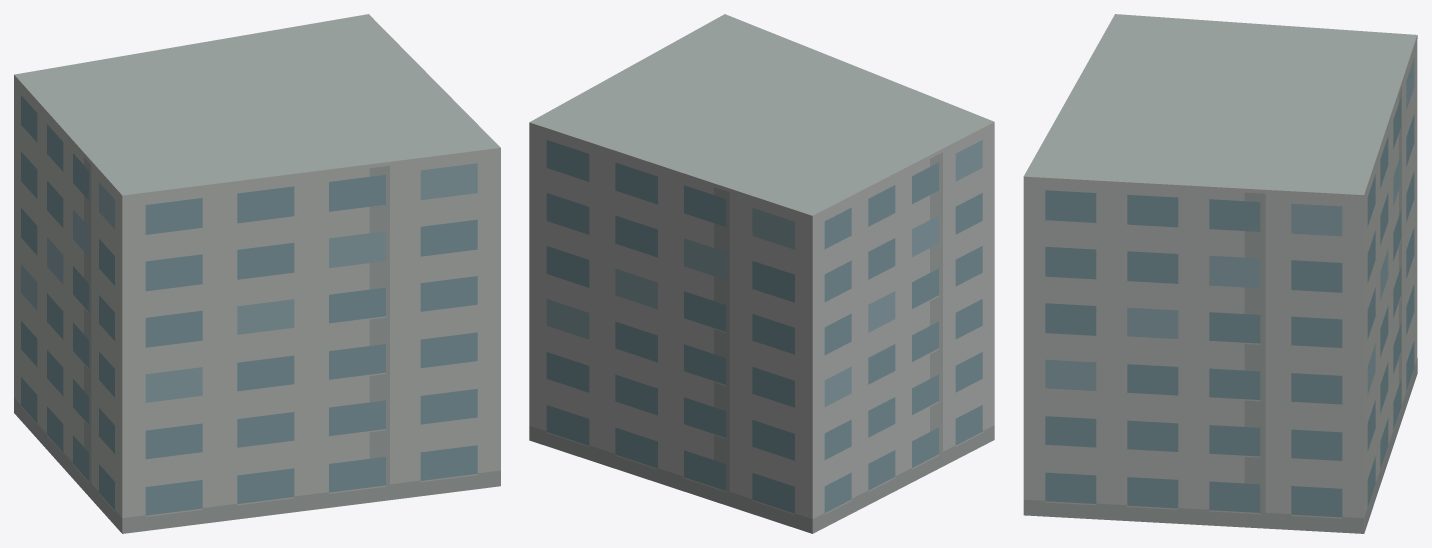
File: residential-46d9ca44-15fb-44e1-a31f-95f5f8680952.glb
The picture shows the model from 3 angles, left to right: view 1: azimuth 30°, elevation 25°; view 2: azimuth 150°, elevation 25°; view 3: azimuth 270°, elevation 25°; orthographic projection. The views are drawn at different scales.
Visible parts, largest first — view 1: residential-46d9ca44-15fb-44e1-a31f-95f5f8680952.tmp; view 2: residential-46d9ca44-15fb-44e1-a31f-95f5f8680952.tmp; view 3: residential-46d9ca44-15fb-44e1-a31f-95f5f8680952.tmp.
Part boxes in pixels (bbox=[...]): residential-46d9ca44-15fb-44e1-a31f-95f5f8680952.tmp: bbox=[14, 14, 500, 533]; residential-46d9ca44-15fb-44e1-a31f-95f5f8680952.tmp: bbox=[529, 14, 994, 533]; residential-46d9ca44-15fb-44e1-a31f-95f5f8680952.tmp: bbox=[1023, 14, 1417, 533].
Size of the model in its own units: 24.09 by 21 by 22.14.
